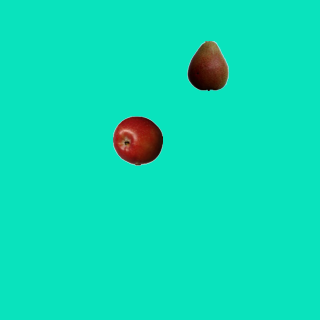Apple Braeburn: (112, 115, 162, 165)
Pear Forelle: (182, 40, 232, 90)
